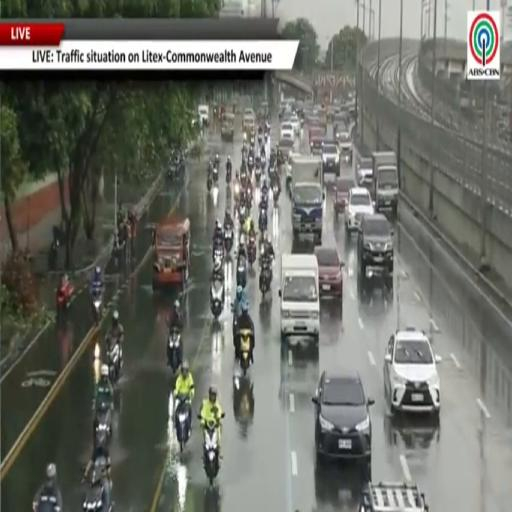car: (312, 368, 374, 477), (384, 328, 441, 415), (357, 214, 393, 289), (355, 483, 429, 511), (314, 247, 344, 299), (345, 187, 374, 234), (333, 176, 354, 217), (322, 142, 340, 177), (357, 157, 372, 187), (337, 132, 352, 162), (280, 123, 294, 140), (310, 136, 322, 155), (198, 105, 209, 125), (289, 115, 300, 135), (309, 126, 324, 140)
motorcycle: (83, 456, 113, 511), (203, 421, 220, 486), (233, 376, 254, 422), (175, 394, 191, 452), (167, 328, 181, 374), (83, 482, 105, 511), (95, 404, 112, 441), (56, 282, 73, 319), (239, 330, 252, 376), (210, 280, 224, 321), (108, 343, 121, 383), (259, 259, 272, 298), (91, 290, 103, 325), (94, 421, 110, 447), (48, 238, 59, 270), (236, 258, 247, 289), (248, 236, 257, 266), (238, 203, 247, 229), (244, 181, 252, 210), (213, 242, 224, 263), (224, 229, 233, 253), (259, 189, 268, 213), (259, 208, 267, 231), (240, 169, 248, 188), (234, 182, 241, 203), (273, 185, 279, 205), (226, 165, 232, 184), (255, 168, 261, 185), (248, 155, 254, 172), (213, 167, 218, 185), (207, 174, 212, 191), (214, 156, 220, 169), (261, 154, 266, 169), (250, 135, 255, 148), (264, 132, 268, 144), (258, 134, 262, 146)
truck: (291, 155, 324, 245), (371, 152, 399, 215)
